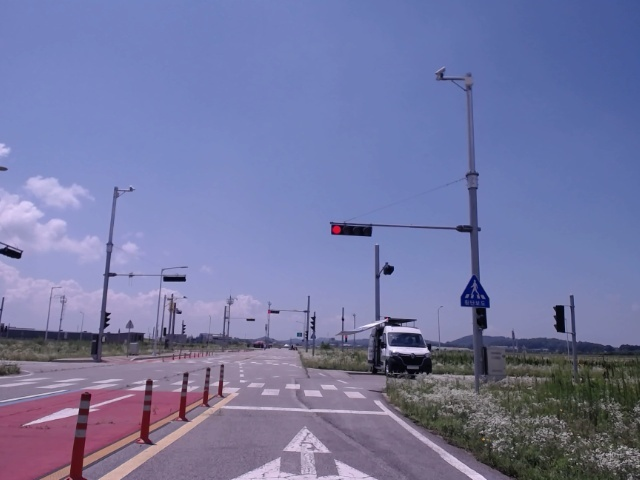red_4: (331, 225, 372, 236)
